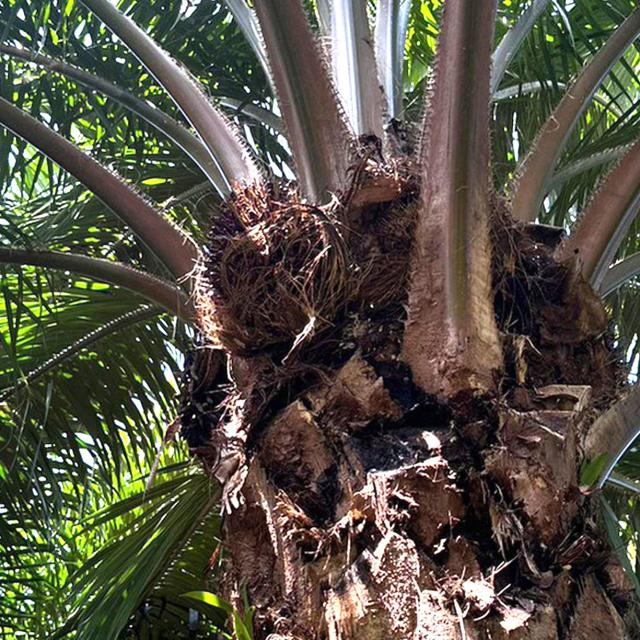ripe: (196, 172, 350, 339)
